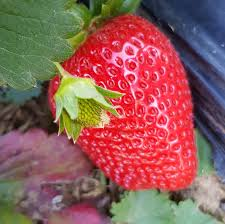ripe: (43, 13, 211, 199)
